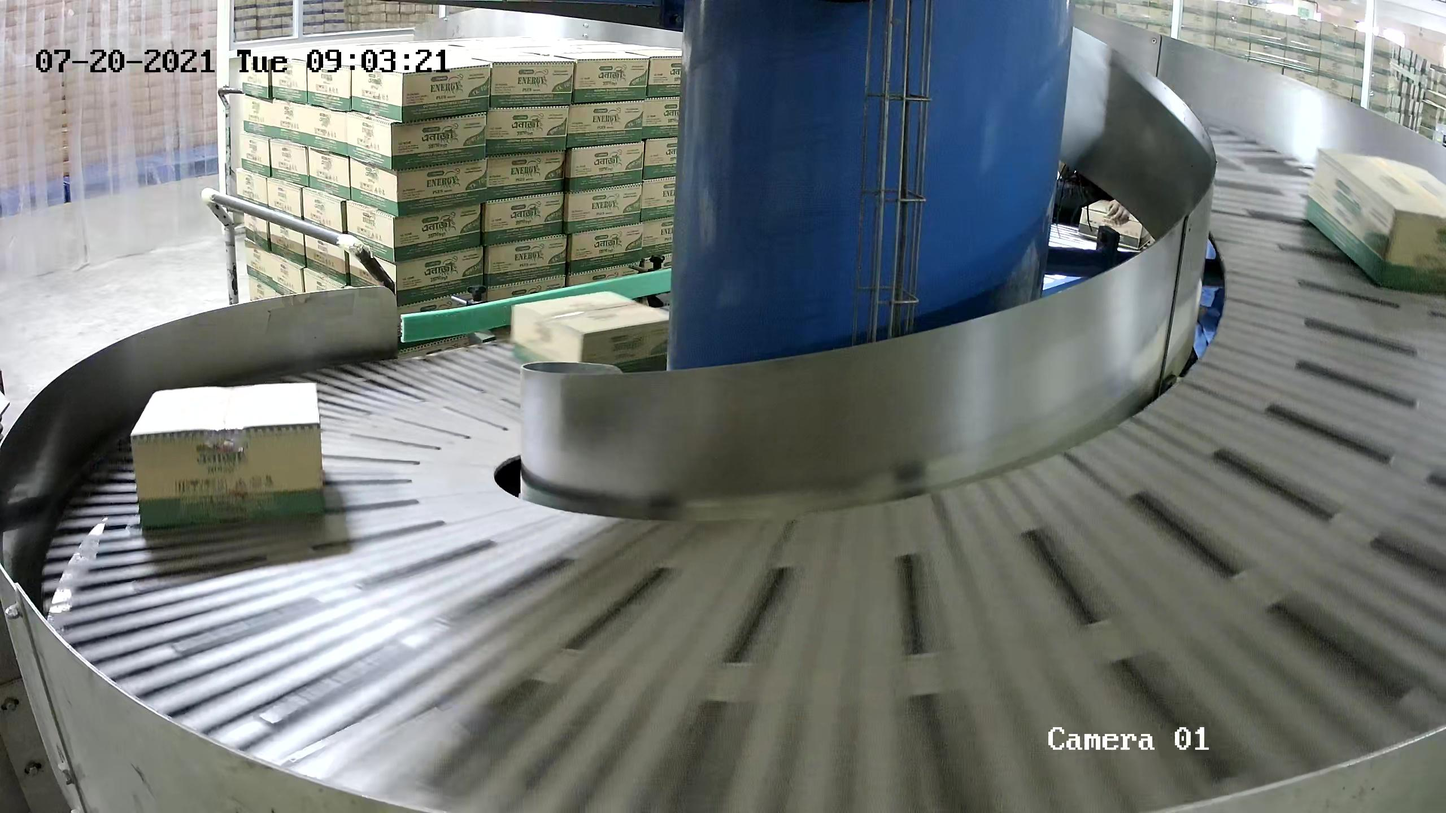Box: (128, 382, 328, 531), (1302, 146, 1446, 297), (509, 289, 684, 378)
